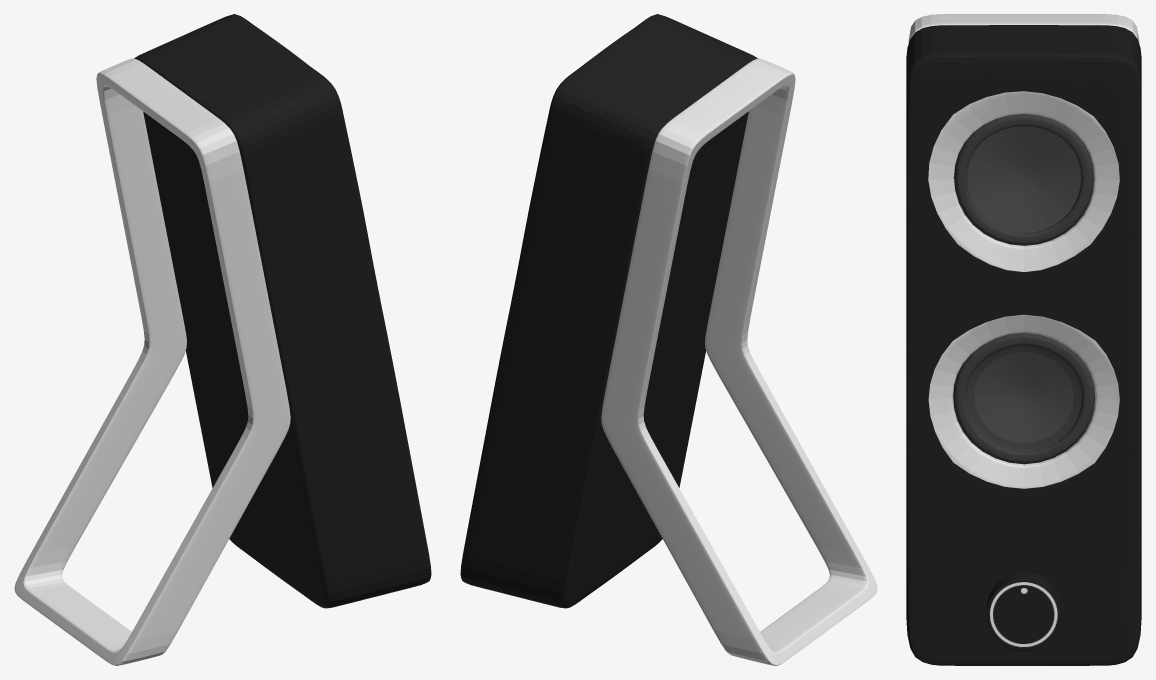
File: speakers 5 primary.glb
The picture shows the model from 3 angles, left to right: view 1: azimuth 30°, elevation 25°; view 2: azimuth 150°, elevation 25°; view 3: azimuth 270°, elevation 25°; orthographic projection. The views are drawn at different scales.
Visible parts, largest first — view 1: Plane; view 2: Plane; view 3: Plane.
Boxes of the visible parts, x1,y1,x2,y2 form: Plane: (14, 14, 431, 665); Plane: (460, 14, 877, 665); Plane: (906, 14, 1141, 665).
Size of the model in its own units: 3.26 by 4.92 by 1.86.
Materials: 5 (1 with a texture image).
